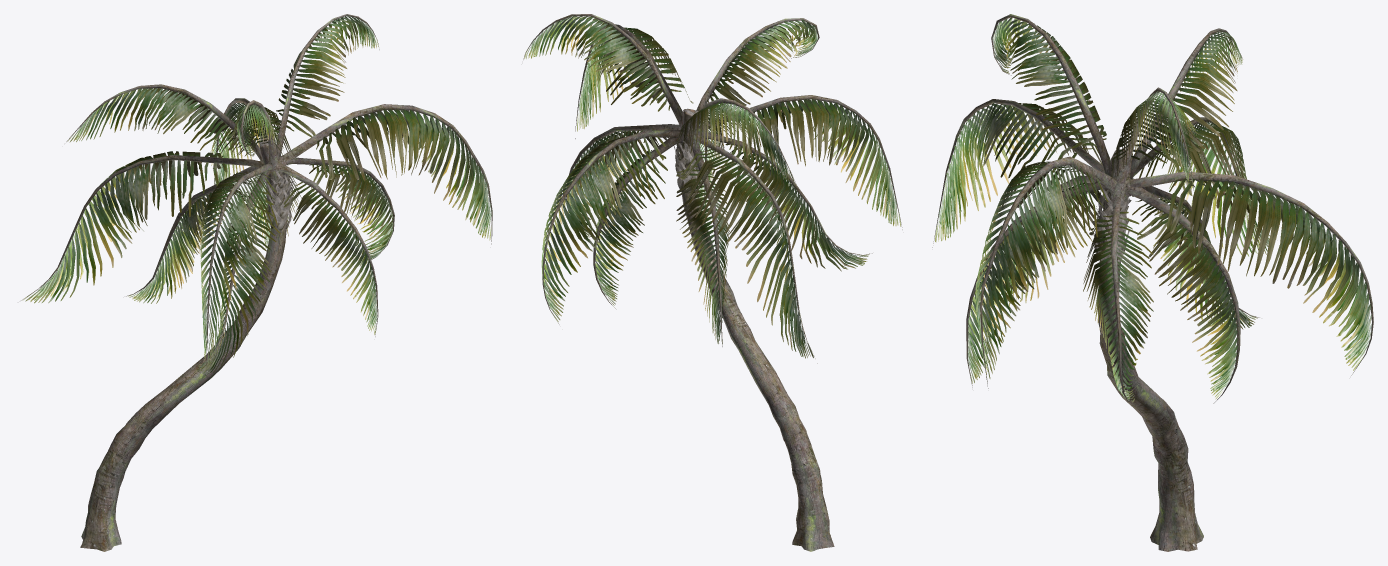
File: palmtree.dae
3 views of the same model, side by side, from view 1: azimuth 30°, elevation 25°; view 2: azimuth 150°, elevation 25°; view 3: azimuth 270°, elevation 25° (orthographic). The views are drawn at different scales.
Visible parts, largest first — view 1: Palm_Desktop; view 2: Palm_Desktop; view 3: Palm_Desktop.
Boxes of the visible parts, x1,y1,x2,y2 form: Palm_Desktop: (21, 14, 492, 551); Palm_Desktop: (523, 14, 902, 551); Palm_Desktop: (932, 14, 1373, 551).
Size of the model in its own units: 0.1798 by 0.1525 by 0.2246.
Materials: 4 (4 with a texture image).
